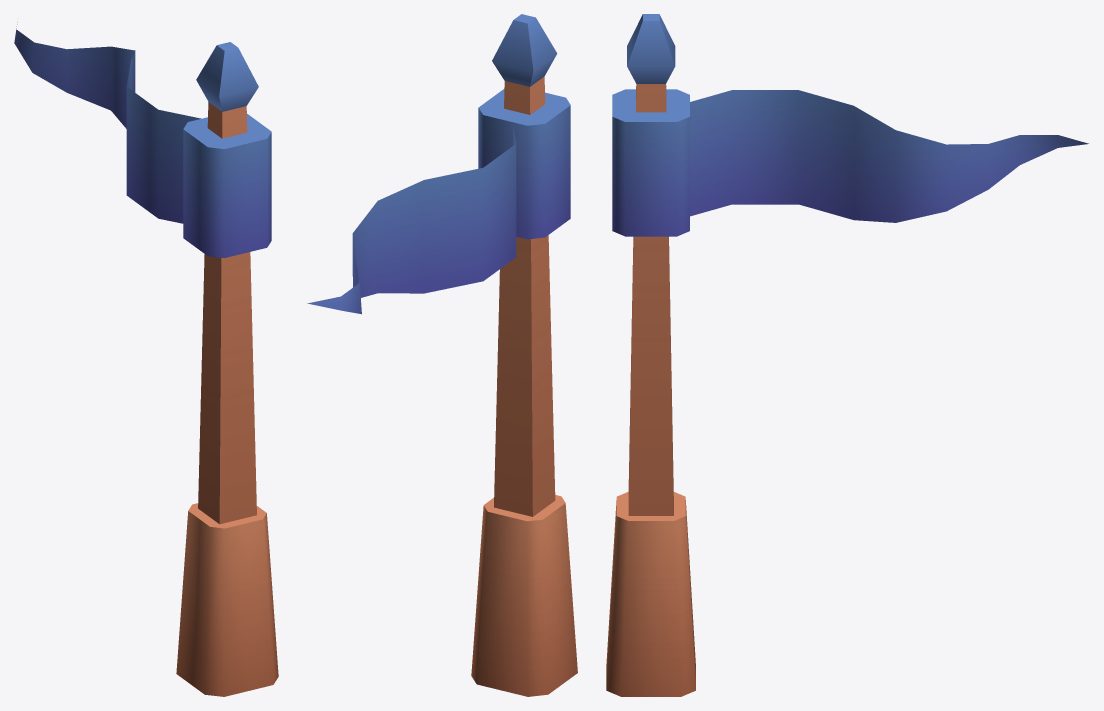
The model's file is flag-pennant.obj.
The picture shows the model from 3 angles, left to right: view 1: azimuth 30°, elevation 25°; view 2: azimuth 150°, elevation 25°; view 3: azimuth 270°, elevation 25°; orthographic projection. The views are drawn at different scales.
Visible parts, largest first — view 1: flag-pennant; view 2: flag-pennant; view 3: flag-pennant.
Boxes of the visible parts, x1=… form: flag-pennant: x1=14, y1=22, x2=278, y2=696; flag-pennant: x1=307, y1=14, x2=577, y2=696; flag-pennant: x1=606, y1=14, x2=1088, y2=696.
Size of the model in its own units: 0.1064 by 0.8656 by 0.5739.
1 material, 1 textured.
